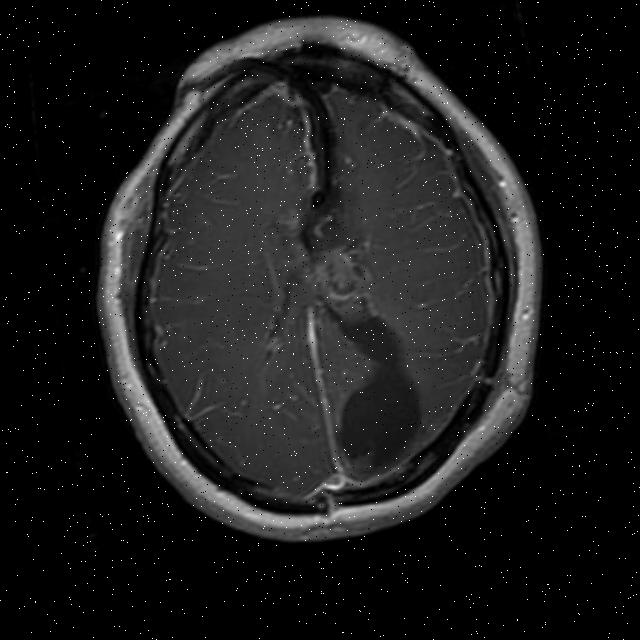Glioma: (302, 233, 384, 332)
